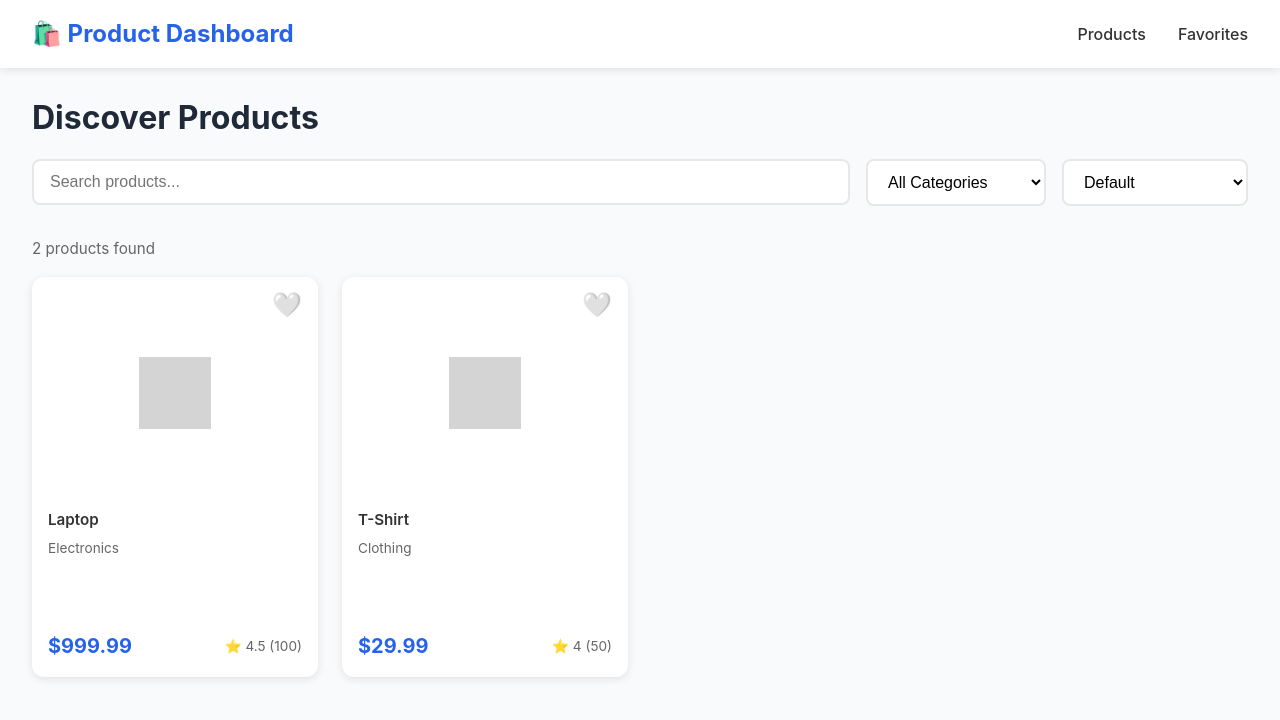
App Integration Tests › adds and removes products from favorites
Expected: the heading "Laptop" is shown, [48,510,99,529]
Add to favorites
Click the button named "add to favorites" at (287, 305), box [272,293,302,317]
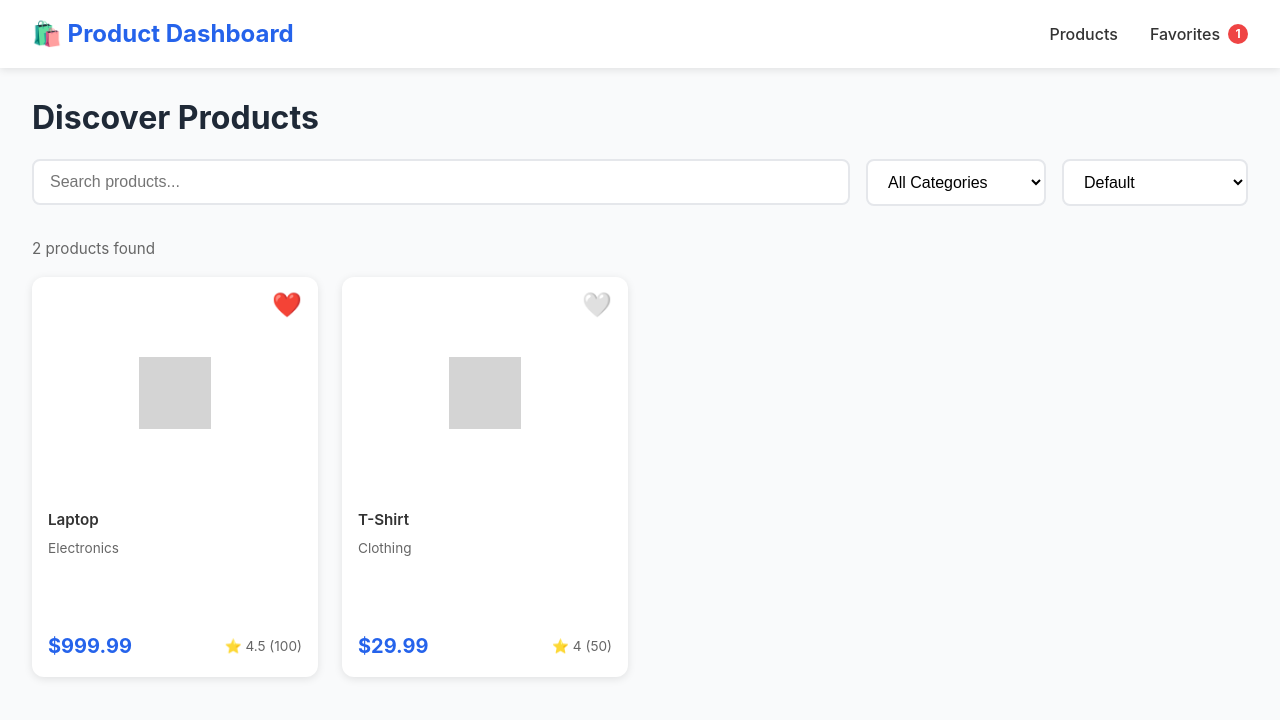
Expected: the text "1" is shown, [1228,24,1248,44]
Navigate to favorites page
Click the link "Favorites 1" at (1199, 34), box [1150,22,1248,46]
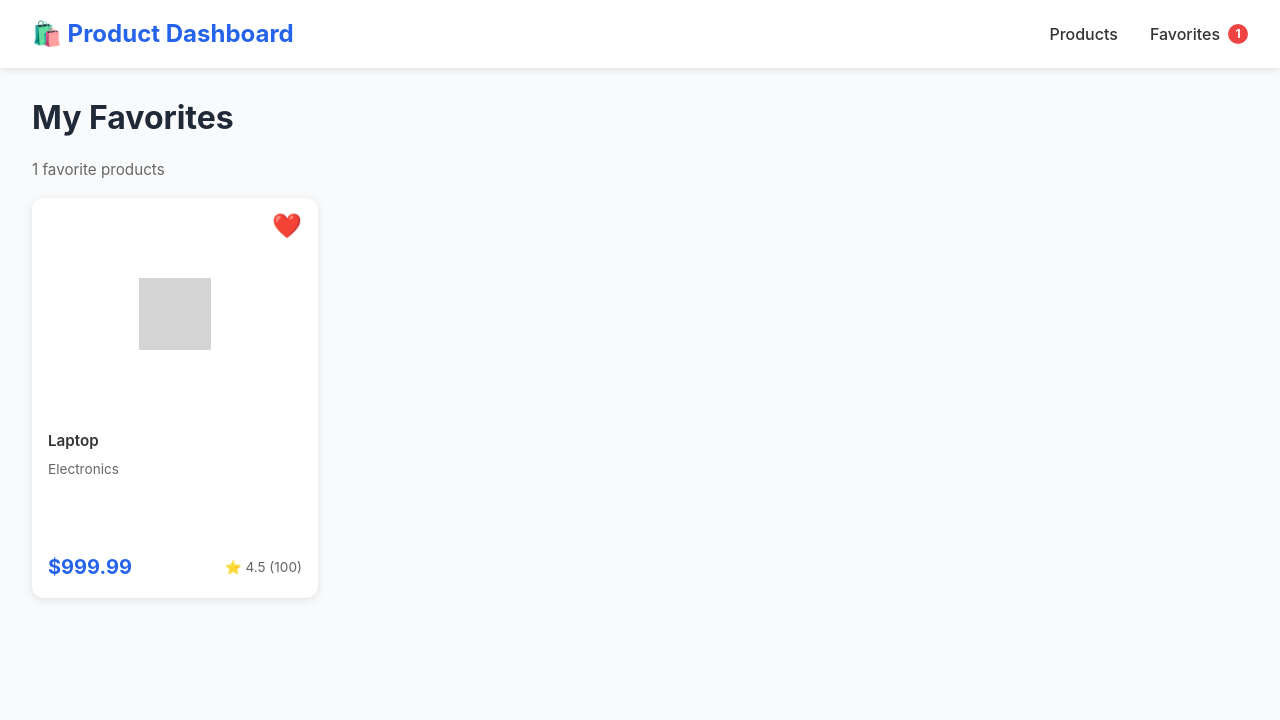
Expected: the heading "My Favorites" is shown, [32,98,234,137]
